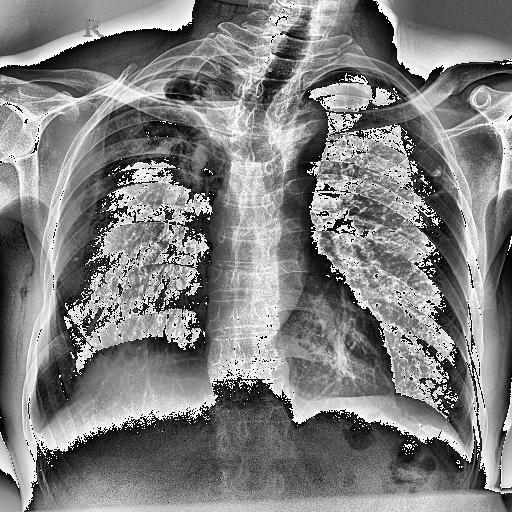11- Pleural thickening: (94, 23, 232, 198), (110, 65, 235, 202), (166, 40, 240, 90)
13- Pulmonary fibrosis: (110, 65, 235, 202), (126, 73, 222, 165), (386, 146, 454, 228)
2- Calcification: (360, 157, 454, 235), (62, 249, 144, 330), (386, 146, 454, 228), (399, 162, 453, 208), (68, 249, 86, 265)
6- Infiltration: (94, 23, 232, 198)
9- Other lesion: (10, 324, 222, 438), (263, 348, 478, 454), (36, 328, 206, 458), (47, 331, 198, 389)
